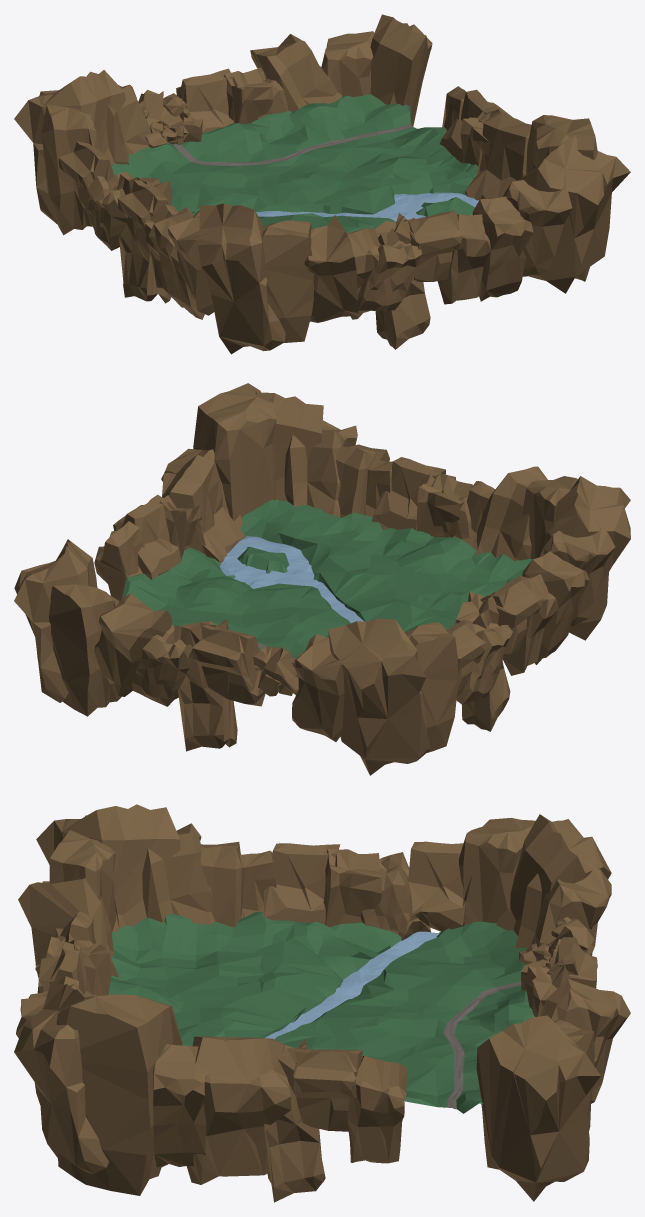
Rendered from home_base_export_test.fbx.
The picture shows the model from 3 angles, top to bottom: view 1: azimuth 30°, elevation 25°; view 2: azimuth 150°, elevation 25°; view 3: azimuth 270°, elevation 25°; orthographic projection. The views are drawn at different scales.
Parts seen in each view (by area): view 1: ground, pCube31, pCube23, pCube32, pCube7, pCube15, pCube8, pCube36, pCube22, pCube13, pCube34, pCube21 (+23 smaller); view 2: ground, pCube7, pCube24, pCube16, pCube15, pCube31, pCube34, pCube13, pCube2, pCube6, pCube8, pCube21 (+24 smaller); view 3: ground, pCube15, pCube24, pCube34, pCube23, pCube31, pCube33, pCube7, pCube8, pCube12, pCube10, pCube29 (+21 smaller).
Boxes of the visible parts, x1,y1,x2,y2 form: ground: (111,94,477,232); pCube31: (197,203,285,354); pCube23: (518,136,630,293); pCube32: (261,220,313,342); pCube7: (14,70,125,224); pCube15: (370,14,432,126); pCube8: (41,105,100,235); pCube36: (304,215,358,322); pCube22: (472,196,533,301); pCube13: (250,34,341,111); pCube34: (465,112,531,200); pCube21: (503,180,572,275); ground: (121,499,532,659); pCube7: (328,618,430,775); pCube24: (193,383,276,520); pCube16: (48,584,121,716); pCube15: (14,539,97,702); pCube31: (552,476,630,640); pCube34: (162,454,245,562); pCube13: (94,593,171,696); pCube2: (174,619,237,751); pCube6: (292,634,344,741); pCube8: (404,622,458,752); pCube21: (284,420,357,517); ground: (108,912,534,1113); pCube15: (476,1015,600,1201); pCube24: (56,994,182,1195); pCube34: (186,1036,291,1184); pCube23: (14,981,108,1173); pCube31: (36,804,180,932); pCube33: (153,1043,207,1167); pCube7: (496,814,611,935); pCube8: (459,818,535,925); pCube12: (347,1055,407,1163); pCube10: (263,1038,325,1202); pCube29: (142,823,215,924).
Size of the model in its own units: 1689 by 658 by 1790.
